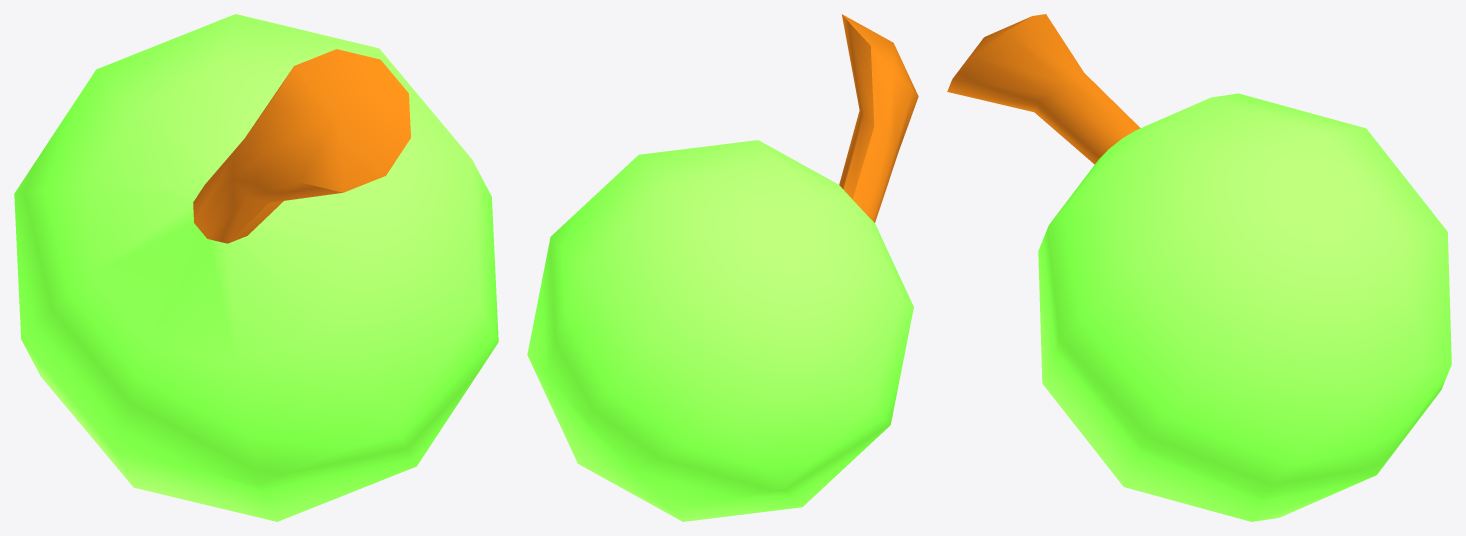
Rendered from Apple.fbx.
3 views of the same model, side by side, from view 1: azimuth 30°, elevation 25°; view 2: azimuth 150°, elevation 25°; view 3: azimuth 270°, elevation 25° (orthographic). The views are drawn at different scales.
Parts seen in each view (by area): view 1: Sphere_1; view 2: Sphere_1; view 3: Sphere_1.
Boxes of the visible parts, x1=… form: Sphere_1: x1=14, y1=14, x2=498, y2=521; Sphere_1: x1=527, y1=14, x2=918, y2=521; Sphere_1: x1=947, y1=14, x2=1451, y2=521.
Size of the model in its own units: 106 by 127 by 126.
